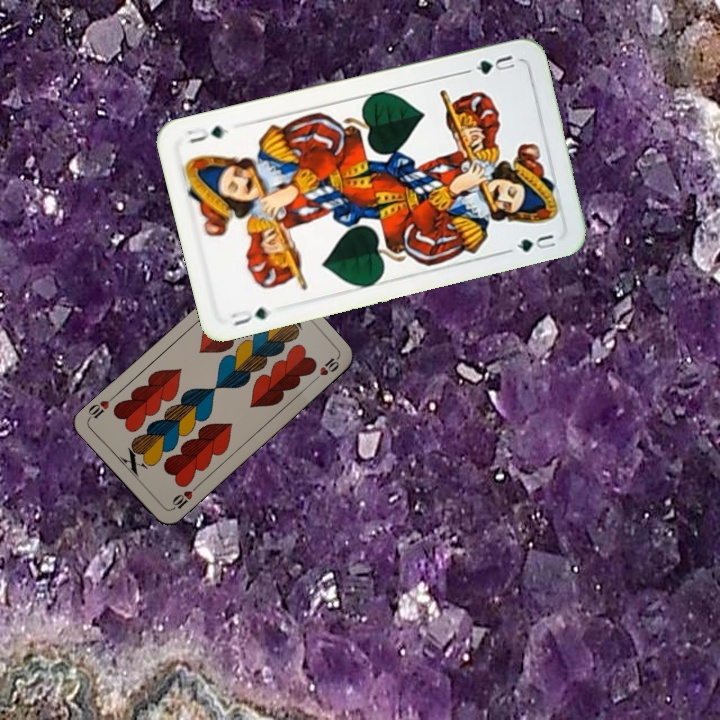GU: (462, 51, 518, 77), (227, 303, 275, 329)
H10: (167, 482, 200, 513)
